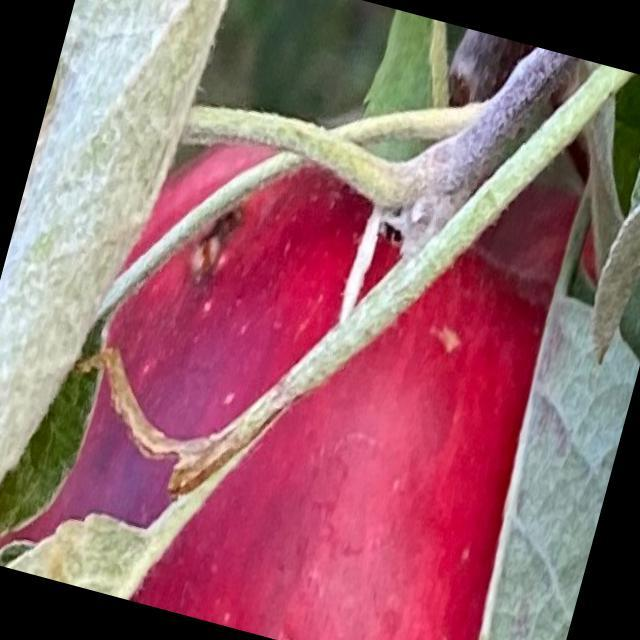100-_ripeness: (0, 67, 621, 639)
